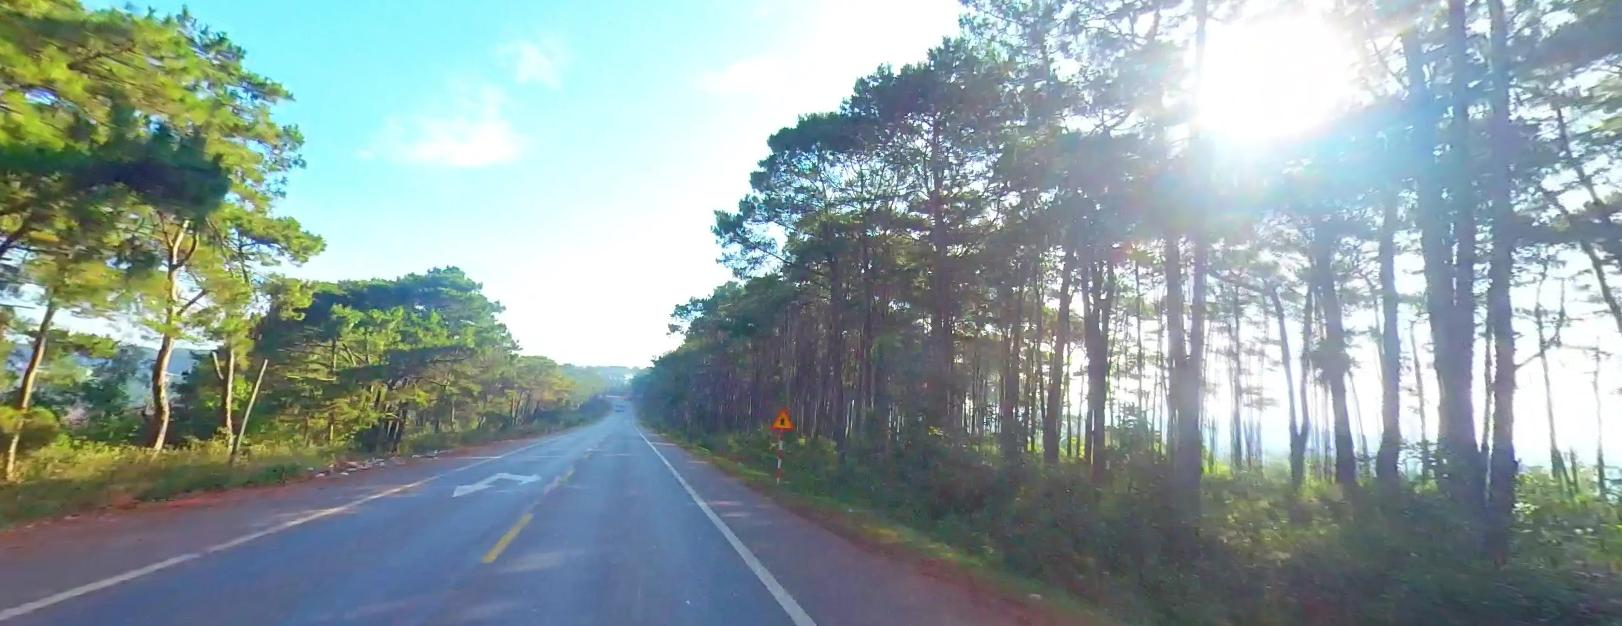Nguy hiem: (768, 405, 795, 429)
